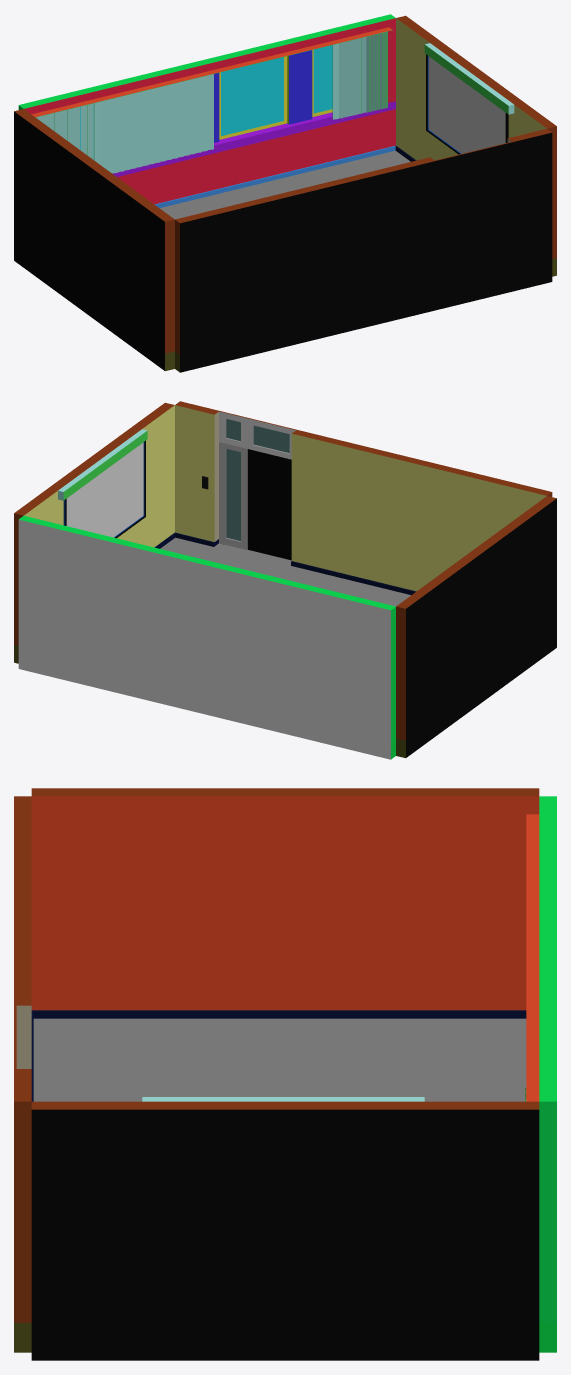
File: computerRoom.fbx
The picture shows the model from 3 angles, top to bottom: view 1: azimuth 30°, elevation 25°; view 2: azimuth 150°, elevation 25°; view 3: azimuth 270°, elevation 25°; orthographic projection. The views are drawn at different scales.
Parts seen in each view (by area): view 1: wallN, wallS, wallE, wallW, floor; view 2: wallS, wallN, wallE, wallW, doorN, floor; view 3: wallW, wallE, floor, wallS, wallN.
Part boxes in pixels (x1,y1,x2,y2): wallN: [175, 129, 552, 372]; wallS: [18, 14, 396, 208]; wallE: [14, 109, 174, 371]; wallW: [395, 15, 556, 276]; floor: [160, 150, 410, 219]; wallS: [18, 516, 395, 759]; wallN: [174, 401, 552, 595]; wallE: [396, 496, 556, 758]; wallW: [14, 402, 175, 663]; doorN: [247, 449, 291, 560]; floor: [160, 537, 410, 606]; wallW: [31, 1097, 539, 1360]; wallE: [31, 788, 539, 1018]; floor: [33, 1018, 526, 1101]; wallS: [525, 796, 556, 1352]; wallN: [14, 796, 33, 1352].
Size of the model in its own units: 700 by 255 by 500.
